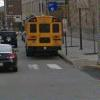buses: (23, 15, 65, 54)
